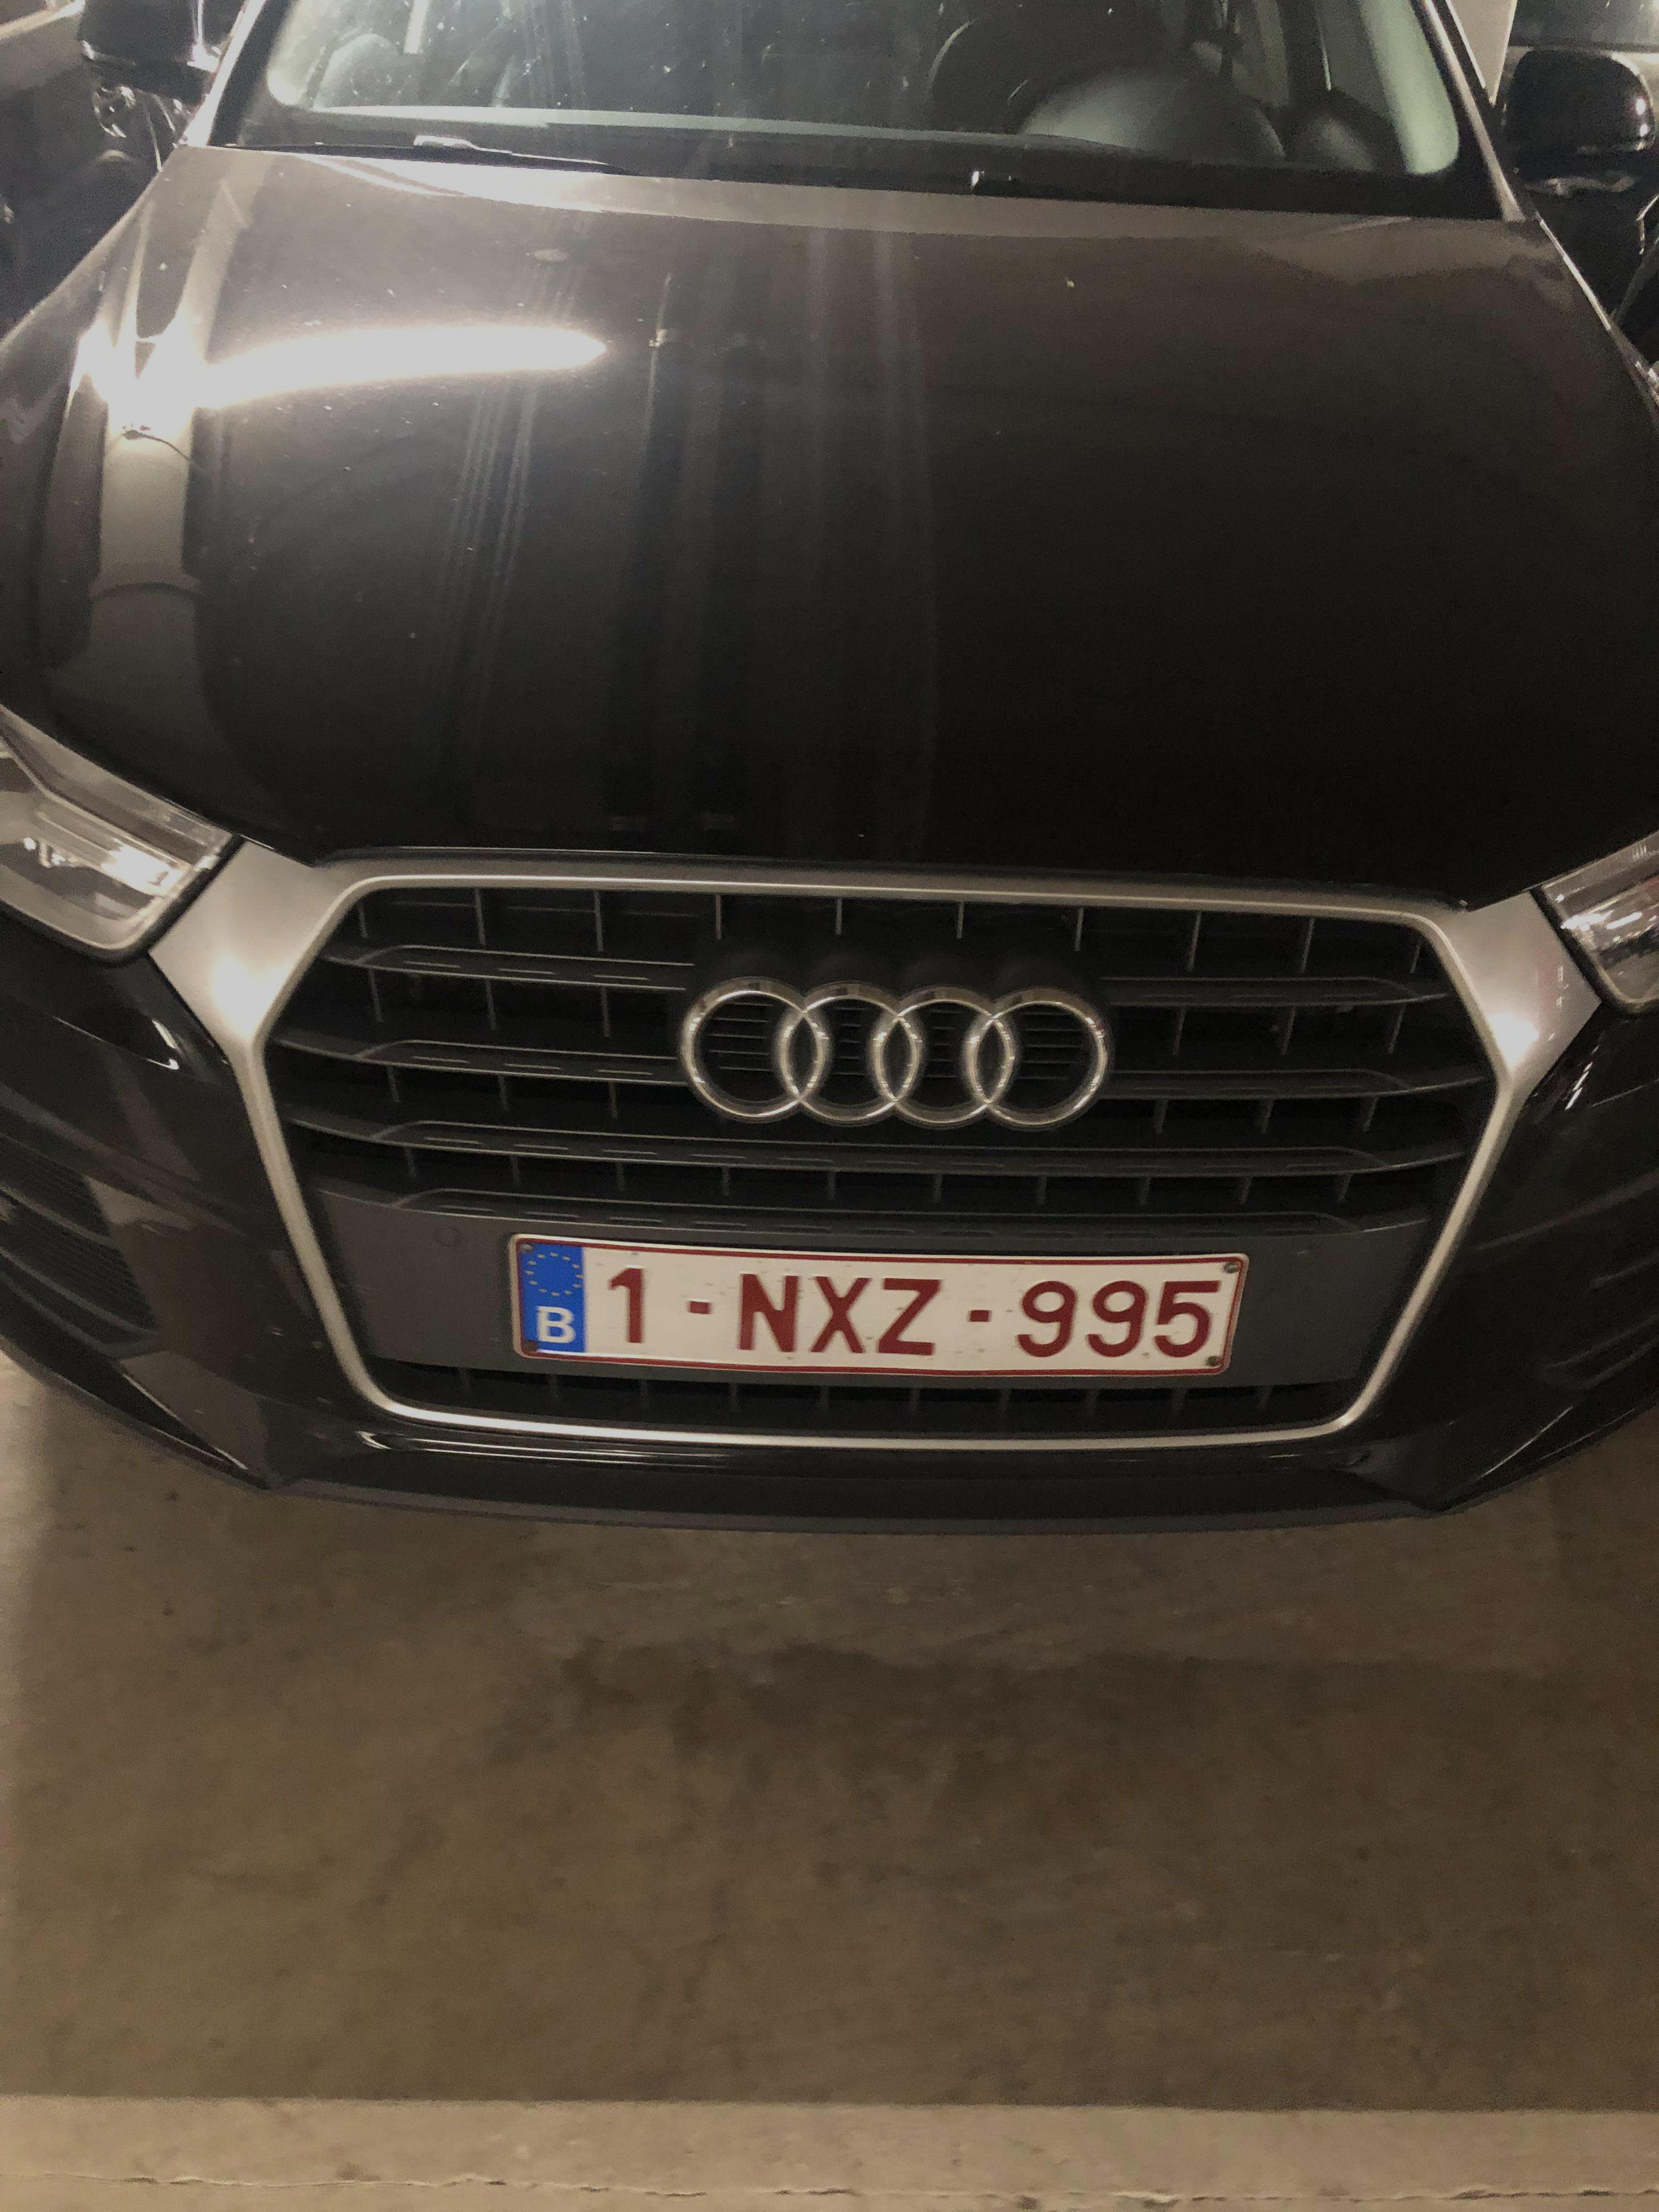plate: (498, 1224, 1255, 1389)
